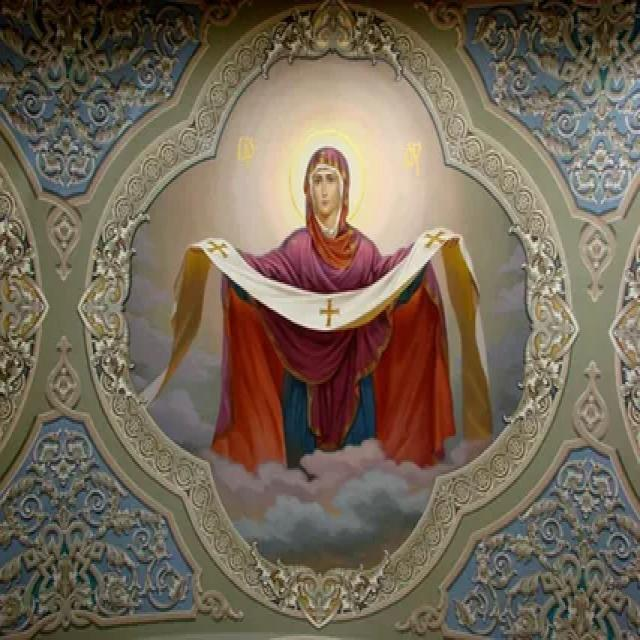mother of god: (206, 146, 461, 464)
